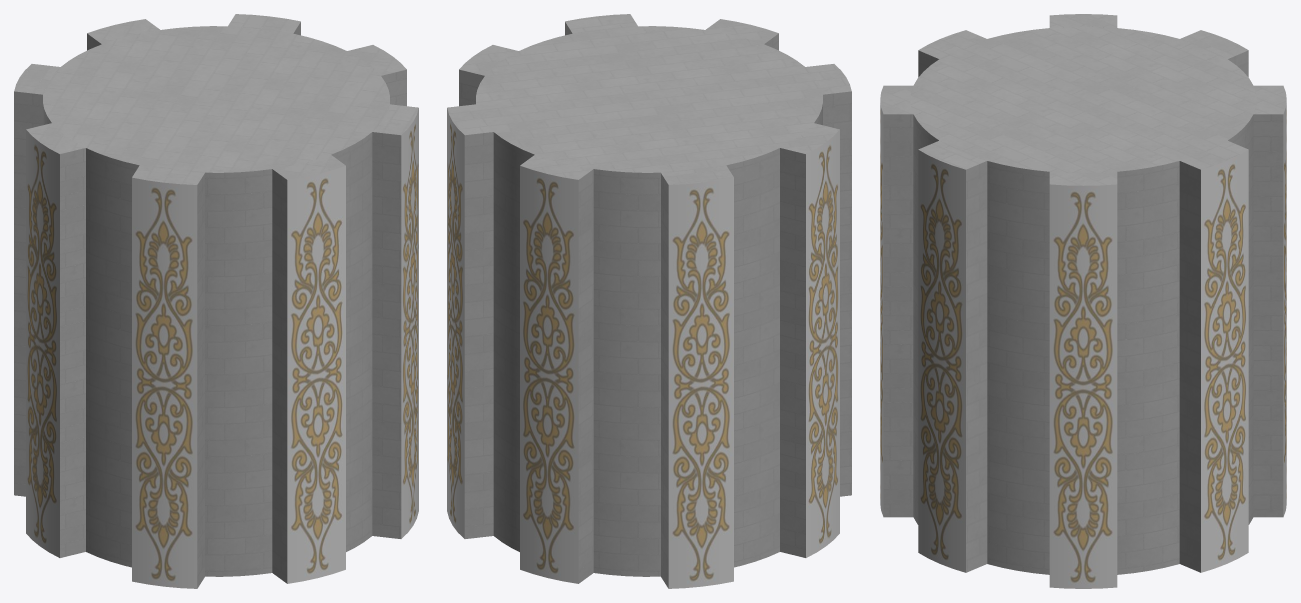
The model's file is SM_circular_support.glb.
3 renders of one model, left to right at view 1: azimuth 30°, elevation 25°; view 2: azimuth 150°, elevation 25°; view 3: azimuth 270°, elevation 25°, orthographic.
Parts seen in each view (by area): view 1: SM_circular_support; view 2: SM_circular_support; view 3: SM_circular_support.
Boxes of the visible parts, x1=… form: SM_circular_support: x1=14, y1=14, x2=418, y2=588; SM_circular_support: x1=447, y1=14, x2=851, y2=588; SM_circular_support: x1=880, y1=14, x2=1286, y2=588.
Bounding box in the file's own units: 10.72 × 11.73 × 10.72.
Materials: 2 (2 with a texture image).
